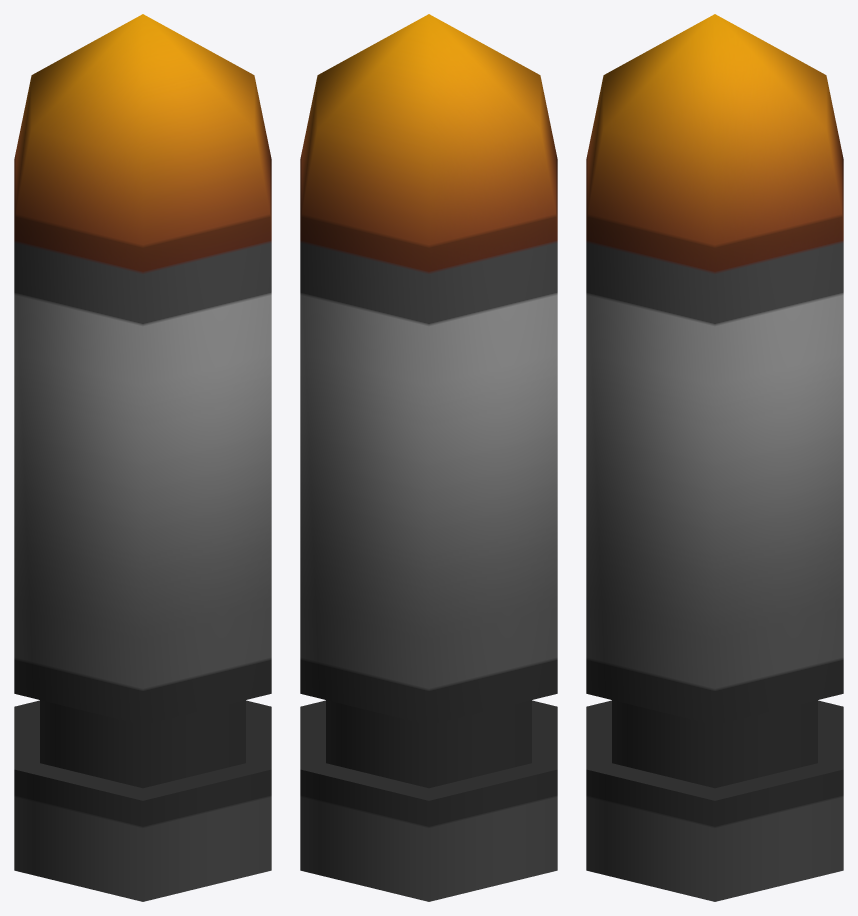
Rendered from bullet.FBX.
3 renders of one model, left to right at view 1: azimuth 30°, elevation 25°; view 2: azimuth 150°, elevation 25°; view 3: azimuth 270°, elevation 25°, orthographic.
Visible parts, largest first — view 1: MESH_bullet; view 2: MESH_bullet; view 3: MESH_bullet.
Part boxes in pixels (left/top/right/bottom): MESH_bullet: left=14, top=14, right=271, bottom=901; MESH_bullet: left=300, top=14, right=557, bottom=901; MESH_bullet: left=586, top=14, right=843, bottom=901.
Bounding box in the file's own units: 22.84 × 70 × 19.78.
Materials: 1 (1 with a texture image).
